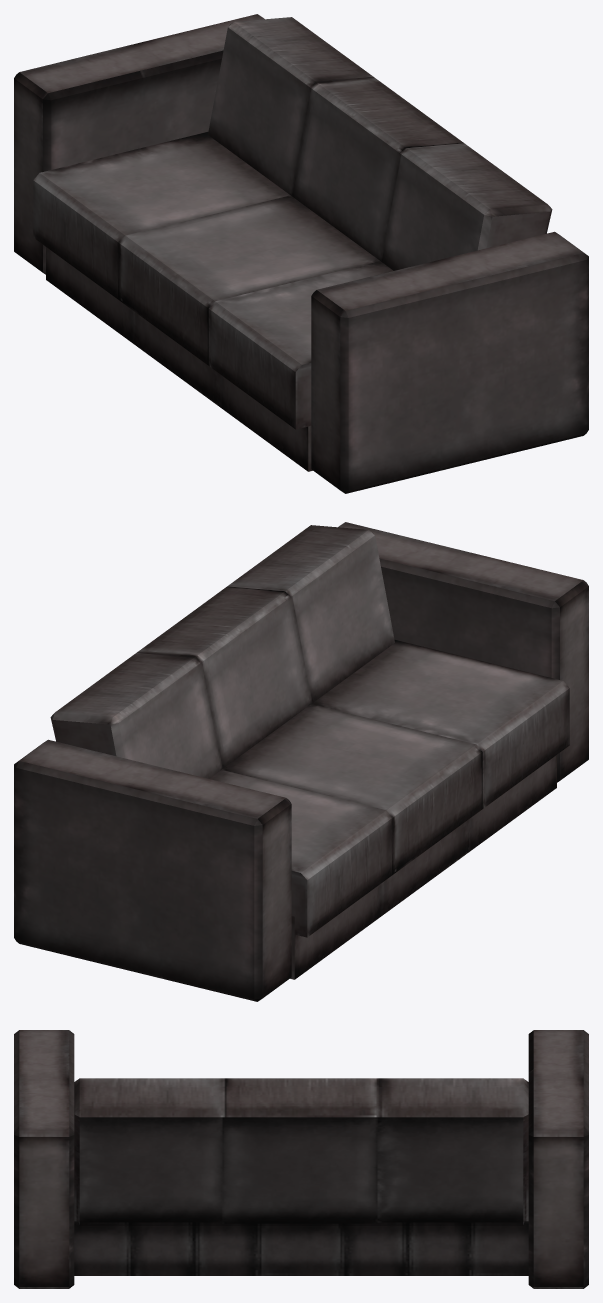
The model's file is sofa_1.fbx.
3 views of the same model, one above another, from view 1: azimuth 30°, elevation 25°; view 2: azimuth 150°, elevation 25°; view 3: azimuth 270°, elevation 25° (orthographic). The views are drawn at different scales.
Visible parts, largest first — view 1: black_sofa_v2.001; view 2: black_sofa_v2.001; view 3: black_sofa_v2.001.
Part boxes in pixels (x1=…): black_sofa_v2.001: x1=14, y1=14, x2=588, y2=493; black_sofa_v2.001: x1=14, y1=522, x2=588, y2=1001; black_sofa_v2.001: x1=14, y1=1030, x2=588, y2=1288.
Bounding box in the file's own units: 86.96 × 68.36 × 192.
